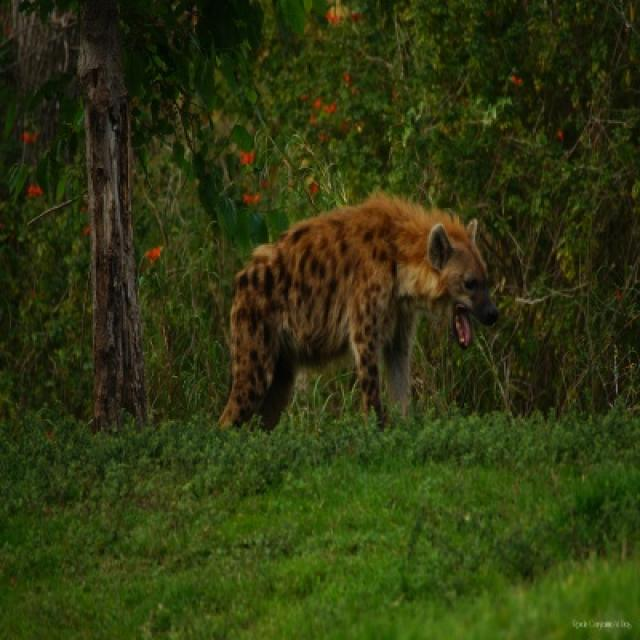hyena: (216, 195, 499, 432)
